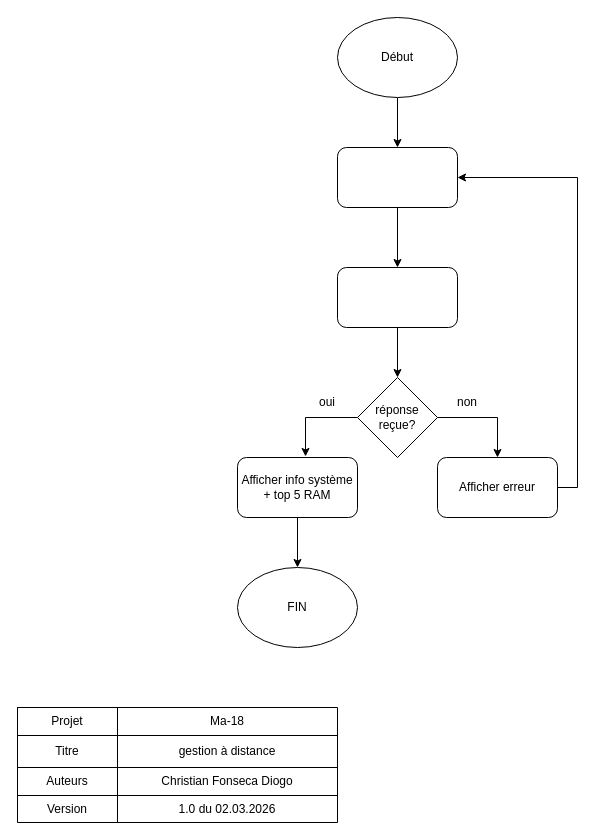
This 603x840 diagram has some shape labels left out. The shapes that lost their labels are listed below. From the top down, each one's centre as x and y in pixels, then its label:
At (397,177): "Configurer trustedHosts".
At (397,297): "envoyer Invoke command".
